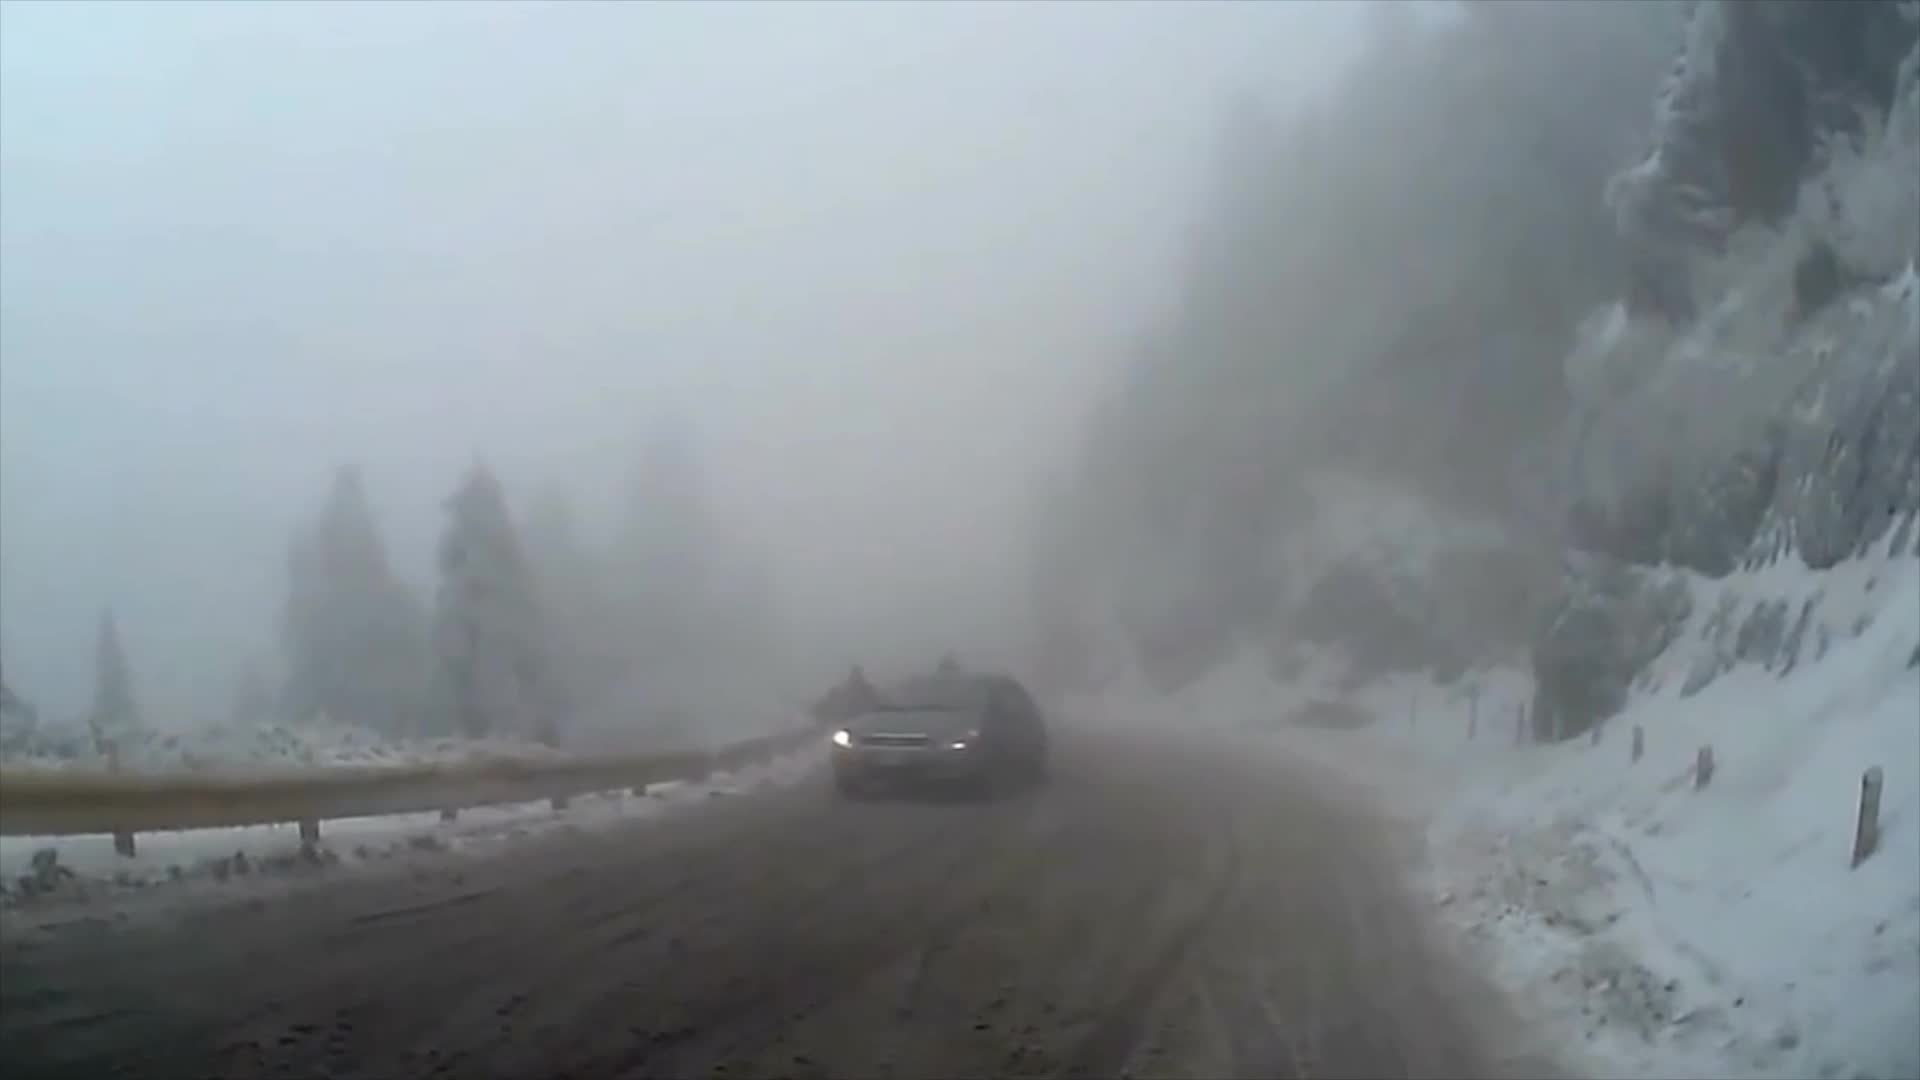vehicle: (832, 669, 1044, 804)
